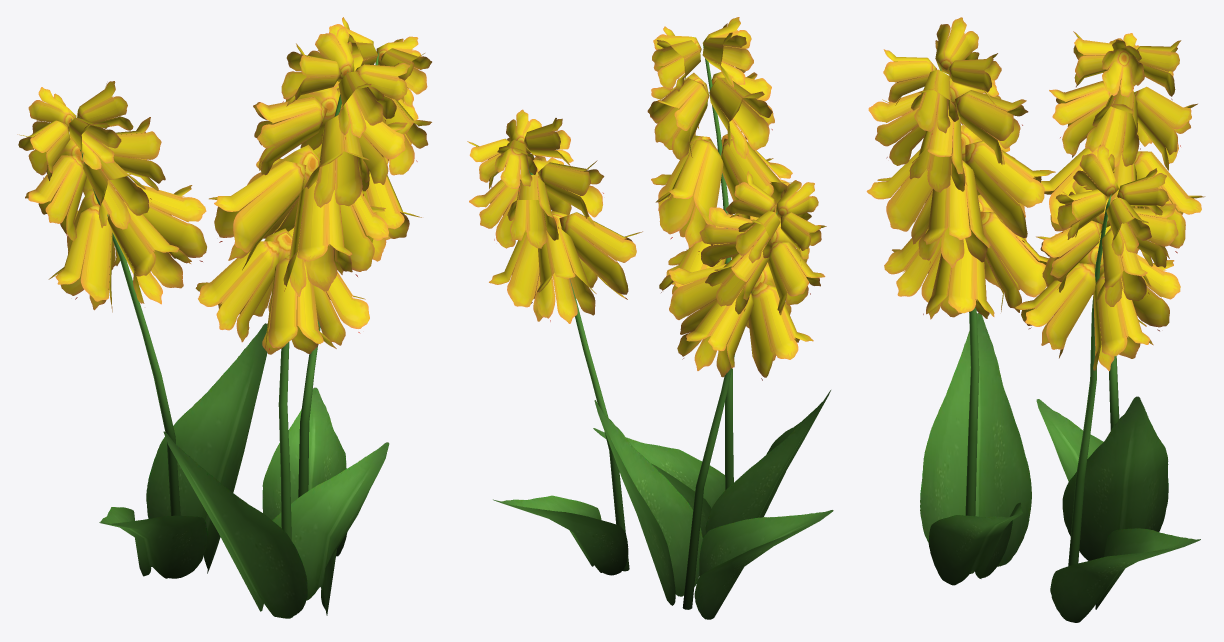
Rendered from flower-4-group.glb.
3 views of the same model, side by side, from view 1: azimuth 30°, elevation 25°; view 2: azimuth 150°, elevation 25°; view 3: azimuth 270°, elevation 25° (orthographic). The views are drawn at different scales.
Parts seen in each view (by area): view 1: Flower_4_Group; view 2: Flower_4_Group; view 3: Flower_4_Group.
Boxes of the visible parts, x1,y1,x2,y2 form: Flower_4_Group: (17,17,431,618); Flower_4_Group: (467,17,833,619); Flower_4_Group: (866,17,1205,622).
Size of the model in its own units: 1.78 by 2.49 by 1.37.
2 materials, 2 textured.
